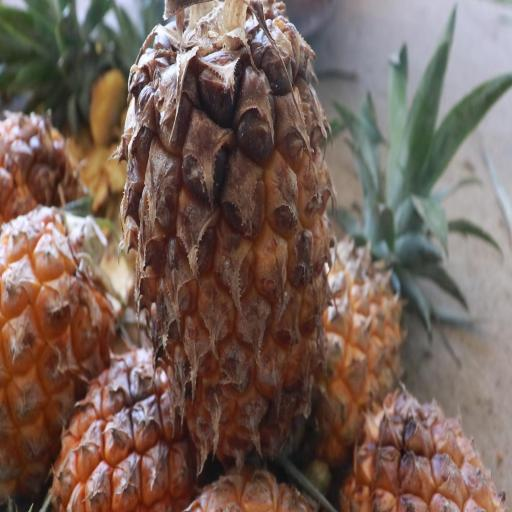Pineapple - v8 v1: (119, 0, 341, 465), (0, 187, 126, 483), (304, 204, 424, 474), (53, 337, 202, 512), (342, 380, 512, 512)
